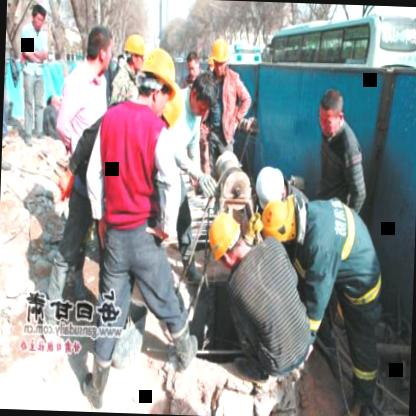head: (85, 19, 118, 78), (315, 86, 348, 141), (188, 70, 218, 120), (182, 47, 204, 80), (29, 1, 50, 31)
helmet: (134, 46, 184, 121), (204, 208, 249, 270), (258, 192, 301, 250), (252, 162, 290, 216), (121, 32, 149, 76), (207, 34, 231, 78)
